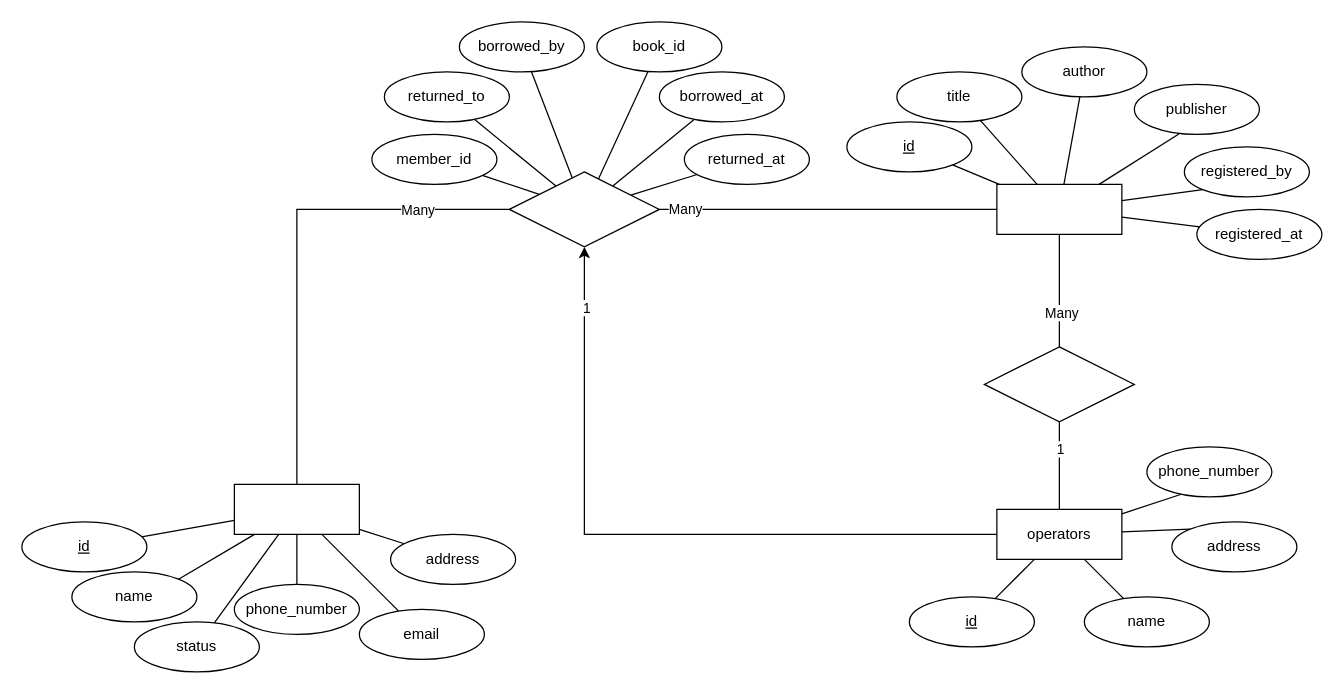
Image size: 1344x694. Some labels were removed from this diagram. The centre of each missing label's shape, as x and y in pixels:
books: point 1059,208
borrowed_books: point 583,209
handle: point 1058,384
members: point 296,508
